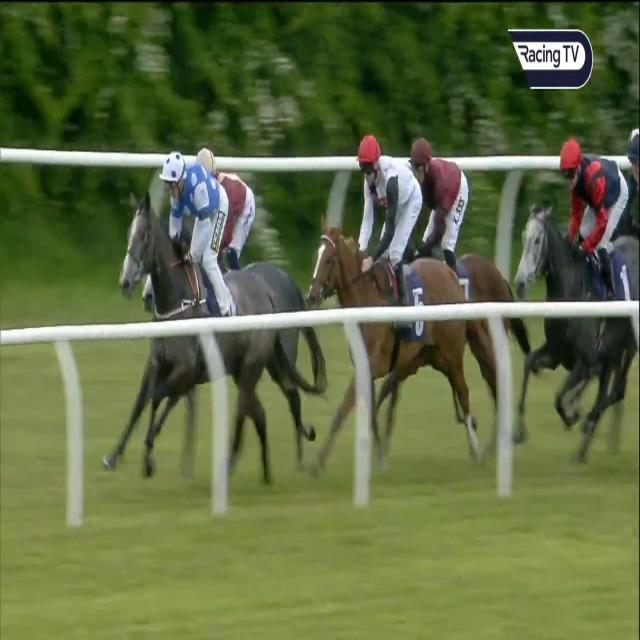horses-racing: (103, 141, 278, 499), (320, 135, 474, 452), (527, 132, 640, 419), (406, 131, 523, 355), (190, 134, 308, 350)
